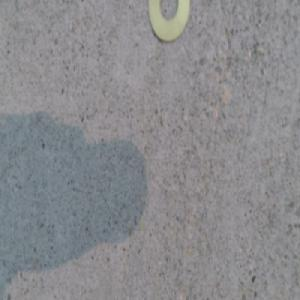Washer: (148, 0, 189, 42)
